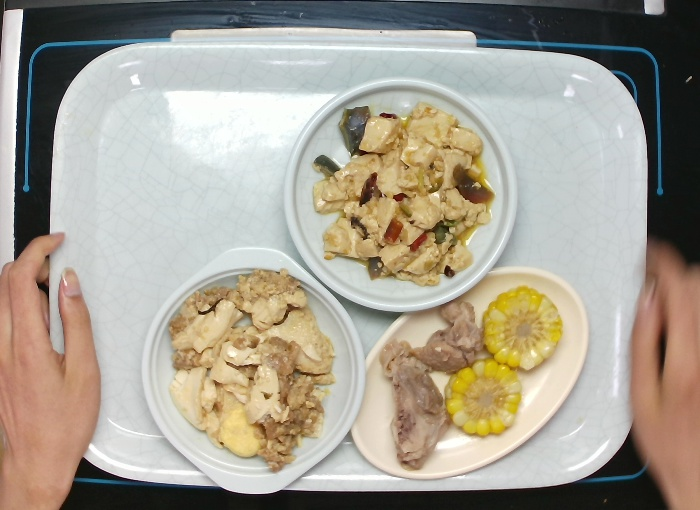JYsf-Shuang_Er_Pan: (139, 244, 367, 497)
JYsf-Tuo_Yuan_Wan: (349, 264, 591, 481)
JYsf-Xiao_Yuan_Pan: (282, 74, 517, 313)
